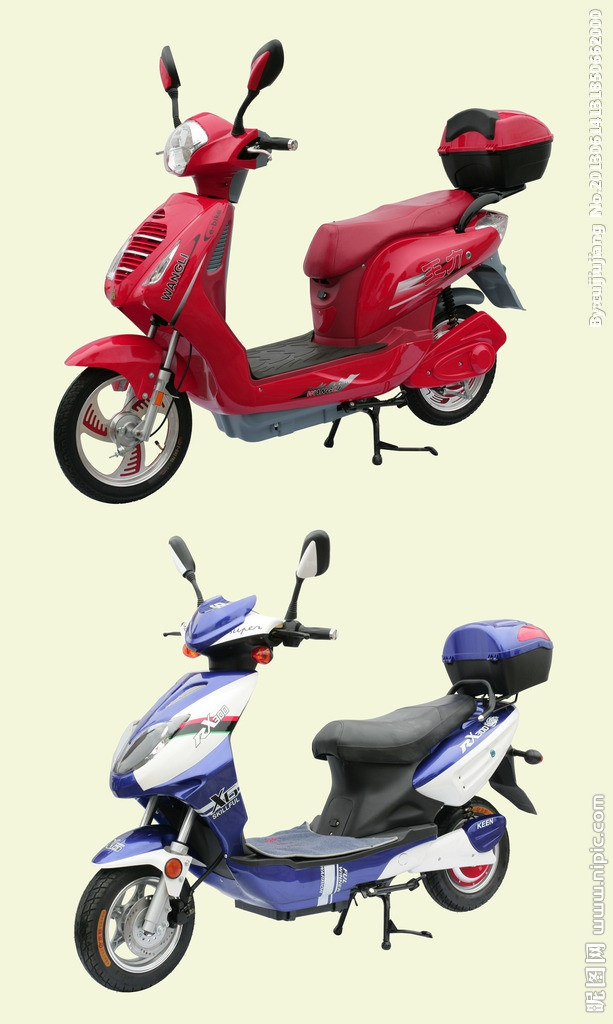non-vehicle: (51, 106, 553, 504), (71, 593, 559, 992)
